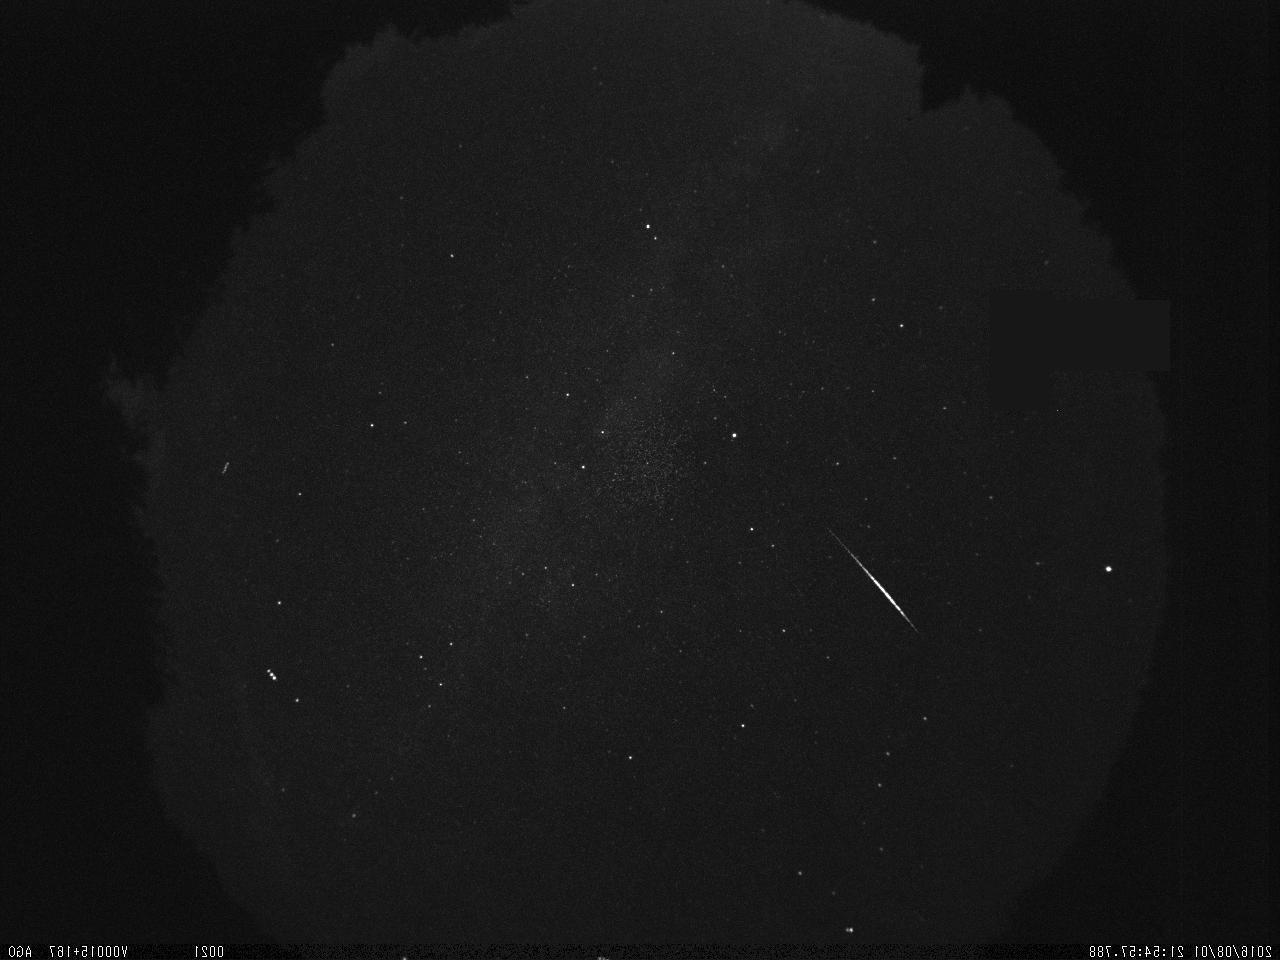meteor: (828, 530, 929, 641)
